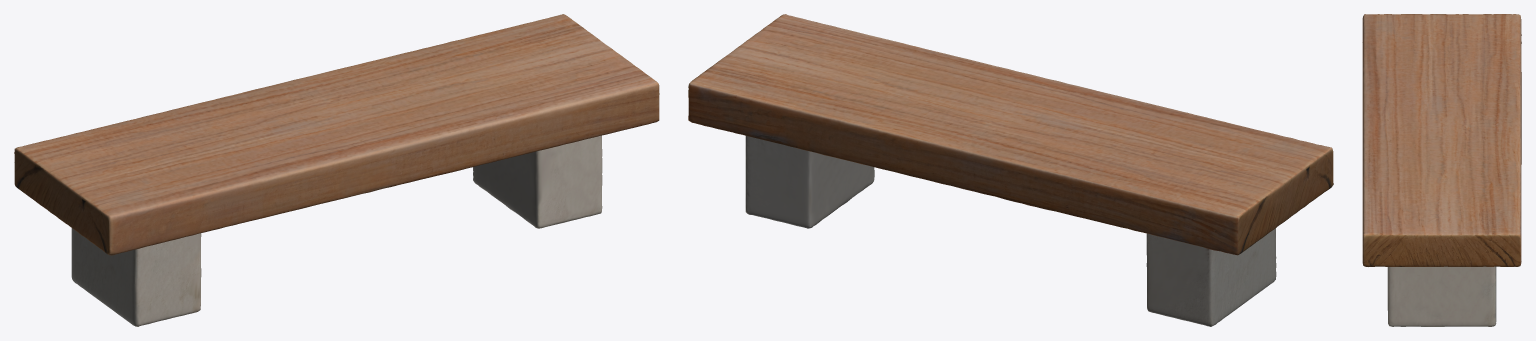
The model's file is Furn_GardenBench.fbx.
The picture shows the model from 3 angles, left to right: view 1: azimuth 30°, elevation 25°; view 2: azimuth 150°, elevation 25°; view 3: azimuth 270°, elevation 25°; orthographic projection. The views are drawn at different scales.
Parts seen in each view (by area): view 1: texture_mapping; view 2: texture_mapping; view 3: texture_mapping.
Boxes of the visible parts, x1=… form: texture_mapping: x1=14, y1=14, x2=659, y2=326; texture_mapping: x1=688, y1=14, x2=1333, y2=326; texture_mapping: x1=1362, y1=14, x2=1521, y2=326.
Bounding box in the file's own units: 0.9983 × 0.3028 × 0.2322.
1 material, 1 textured.
